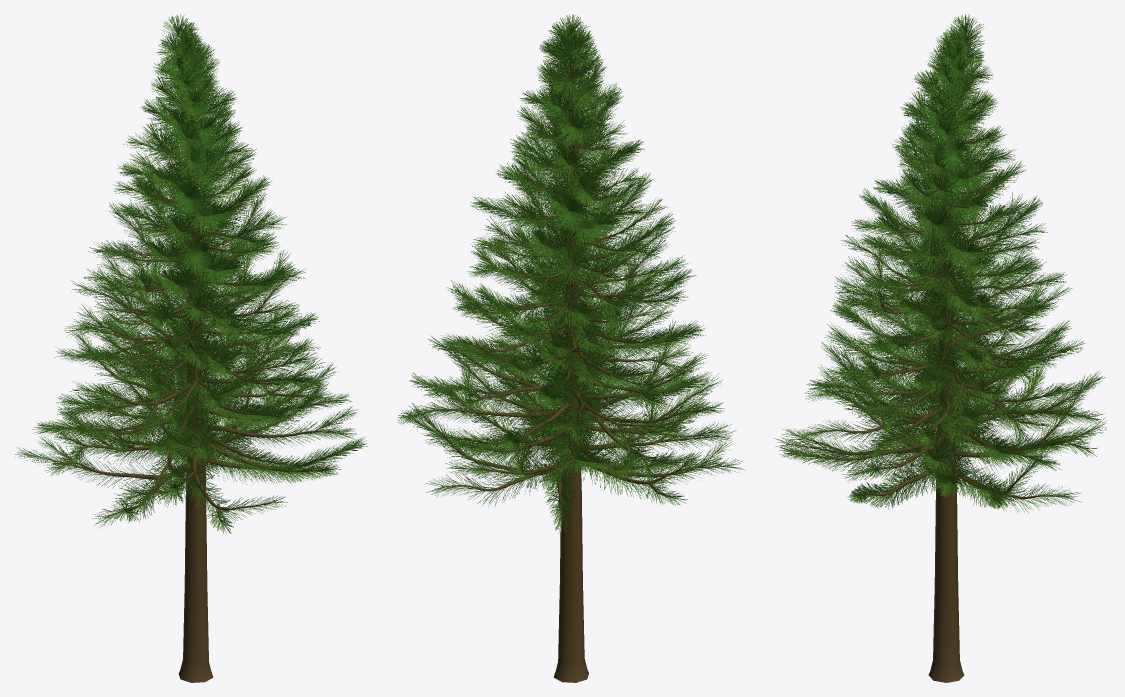
The model's file is tree.fbx.
The picture shows the model from 3 angles, left to right: view 1: azimuth 30°, elevation 25°; view 2: azimuth 150°, elevation 25°; view 3: azimuth 270°, elevation 25°; orthographic projection. The views are drawn at different scales.
Visible parts, largest first — view 1: leaves, pine tree; view 2: leaves, pine tree; view 3: leaves, pine tree.
Part boxes in pixels (x1,y1,x2,y2): leaves: (15,14,367,533); pine tree: (33,35,342,682); leaves: (397,14,745,534); pine tree: (415,39,728,682); leaves: (774,14,1106,513); pine tree: (789,53,1089,682).
Size of the model in its own units: 320 by 674 by 313.
